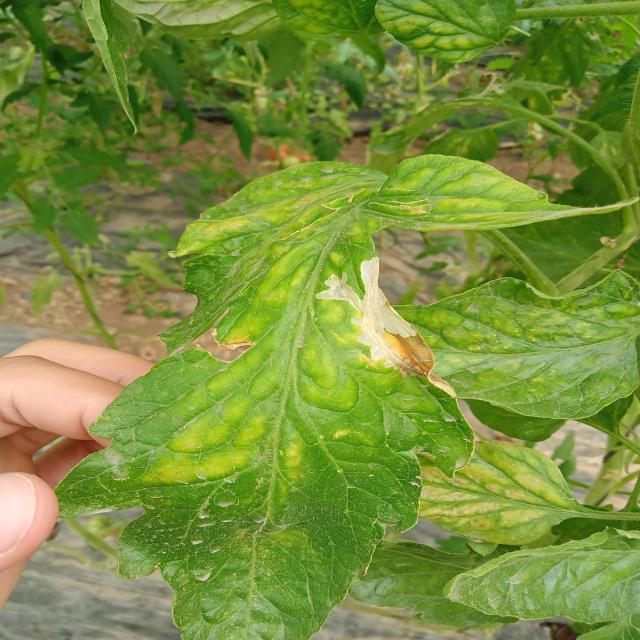Tuta absoluta: (312, 245, 481, 421), (189, 324, 248, 368)
